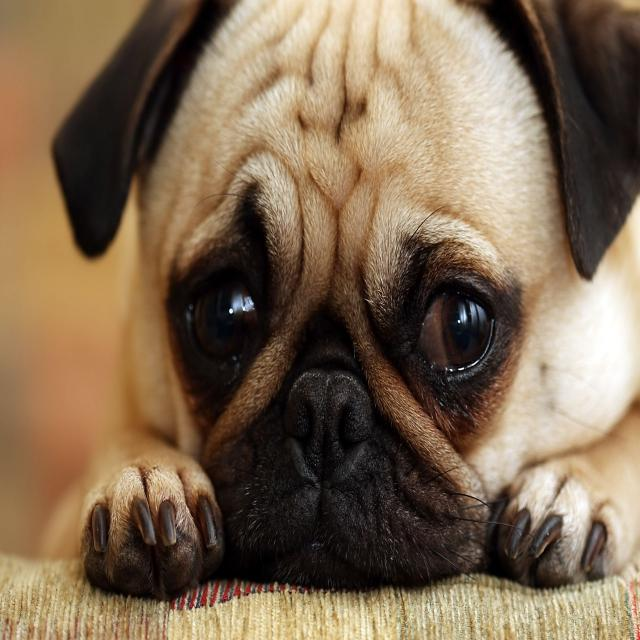eye: (409, 270, 500, 381), (184, 258, 269, 368)
